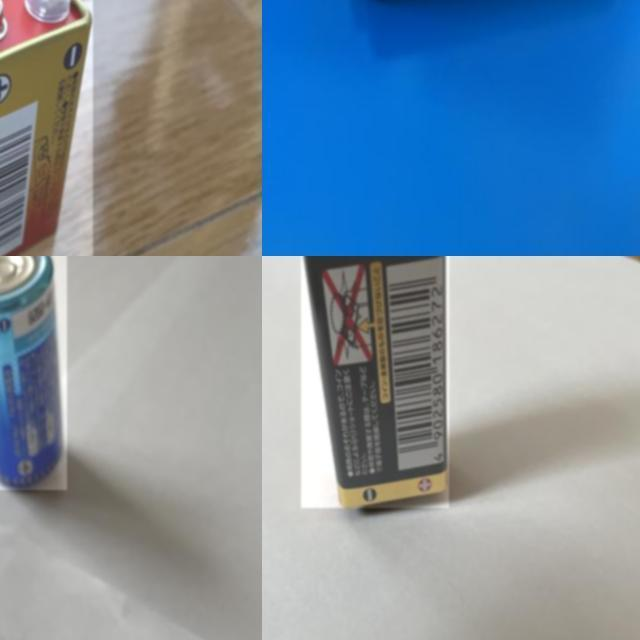9V: (300, 256, 449, 508), (0, 0, 93, 256)
